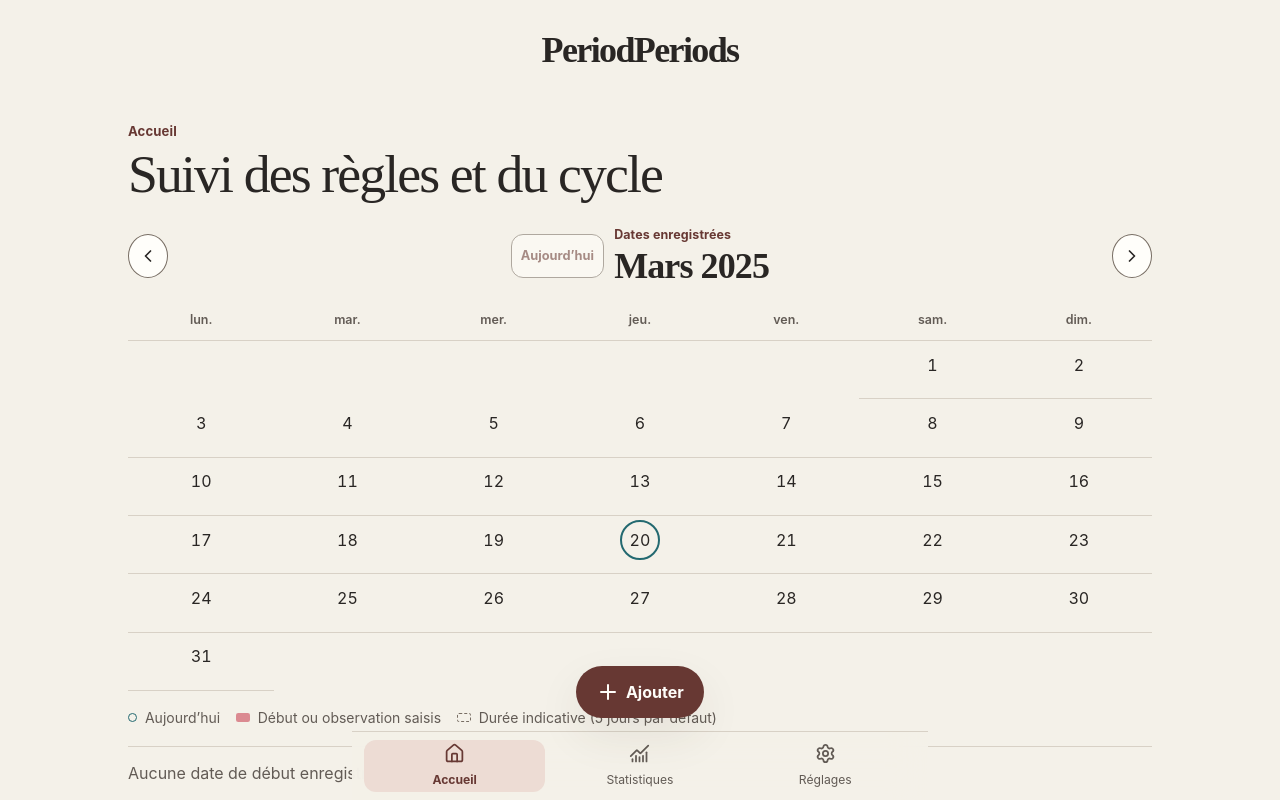
Test case: PeriodPeriods app › remembers the language and applies it throughout Settings
Click the button "Réglages": (825, 766) x1=735 y1=740 x2=916 y2=792
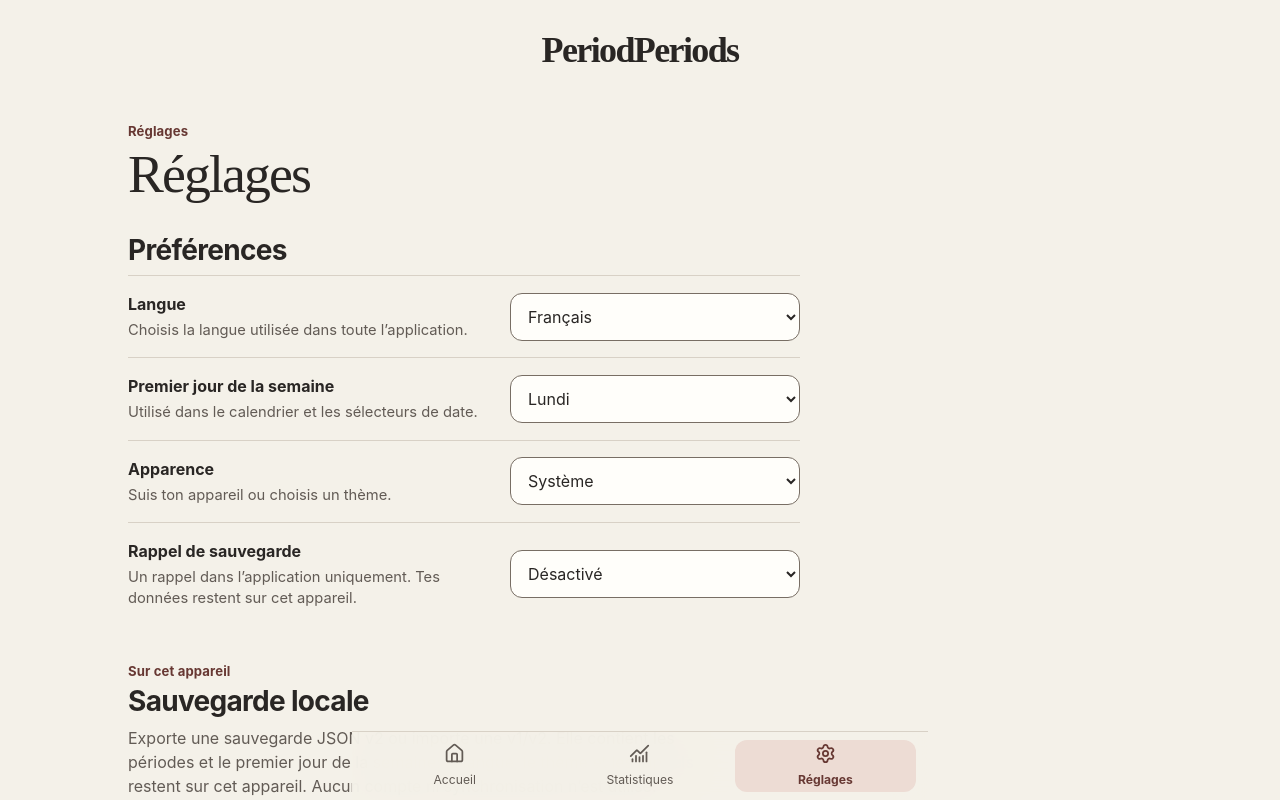
Select "English" in the dropdown labelled "Langue": (655, 317) x1=510 y1=293 x2=800 y2=341
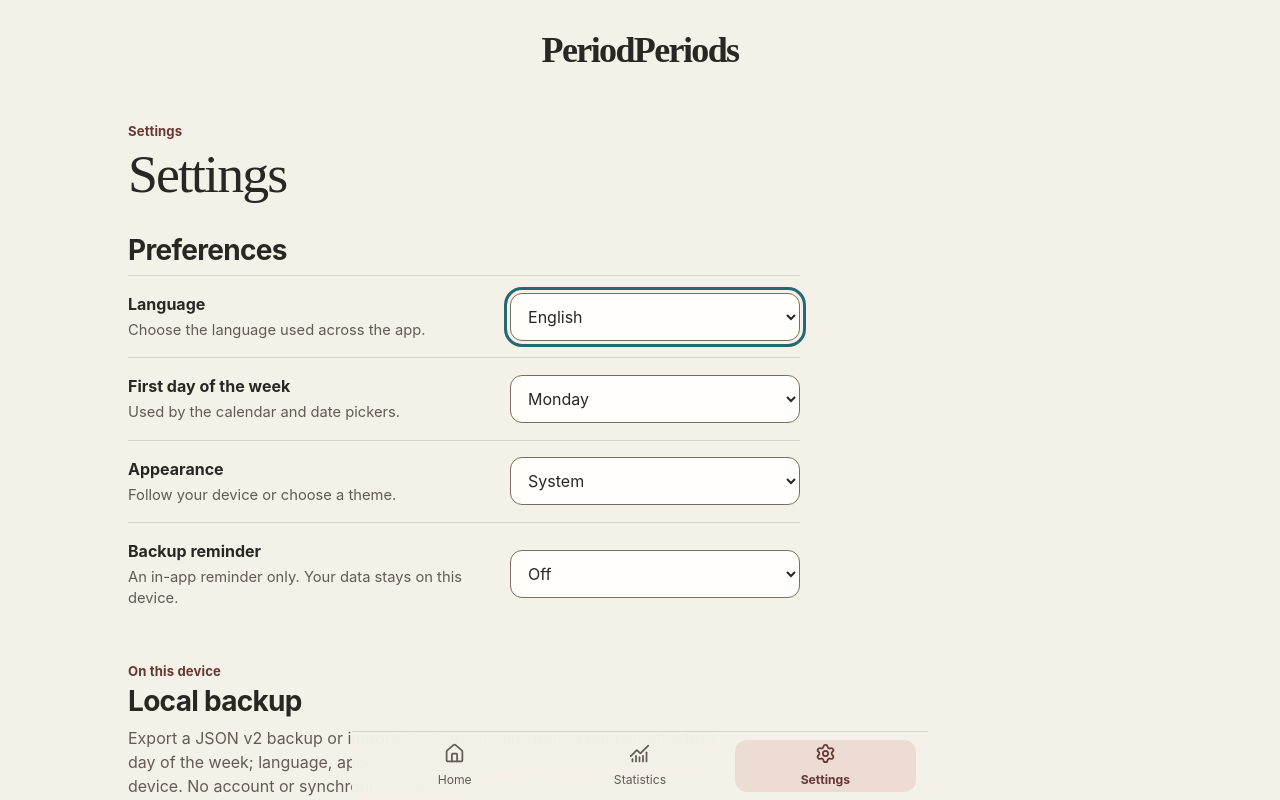
expect the dropdown labelled "Appearance" is shown: met, box x1=510 y1=457 x2=800 y2=505
expect the heading "Local backup" is shown: met, box x1=128 y1=684 x2=302 y2=718
